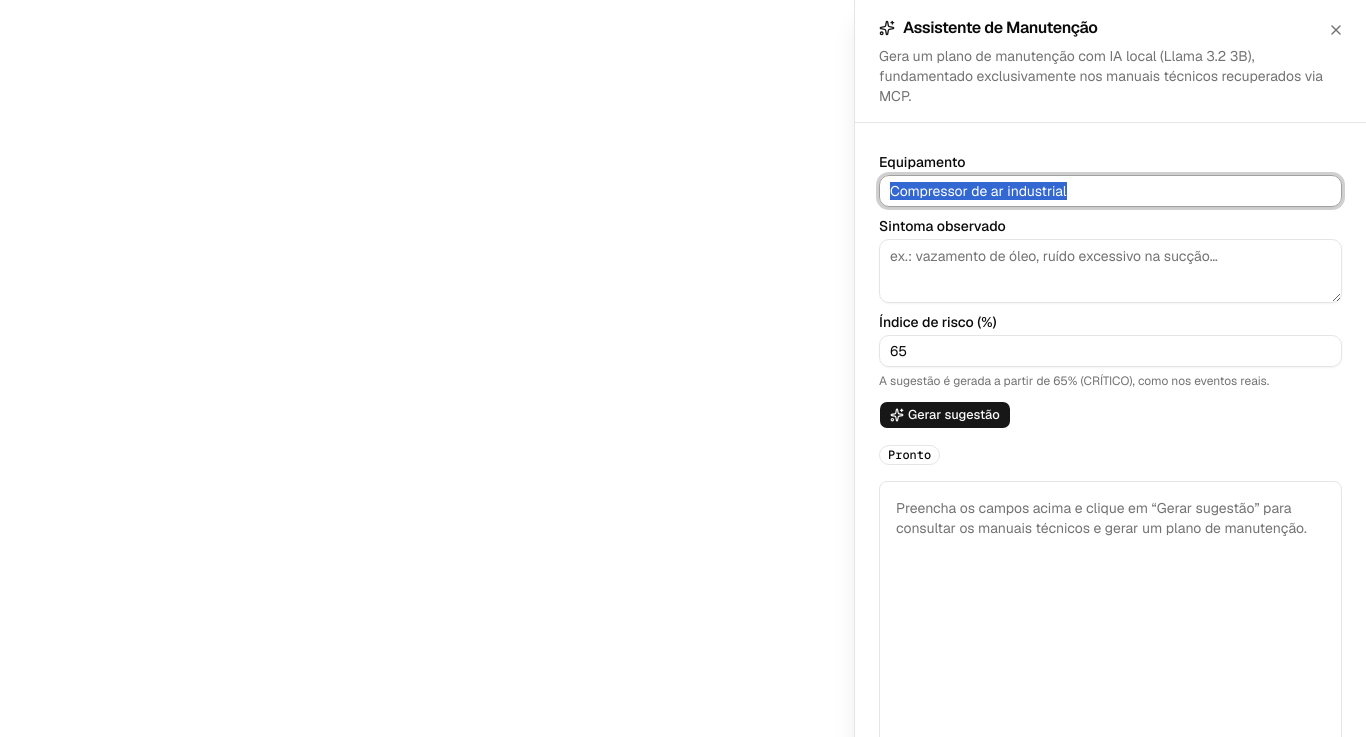
MaintenanceAssistant › D/E) exibe as referências como texto com nome de arquivo e página, sem criar link
Click the button "Gerar sugestão". click: (945,415)
box: [879,401,1011,429]
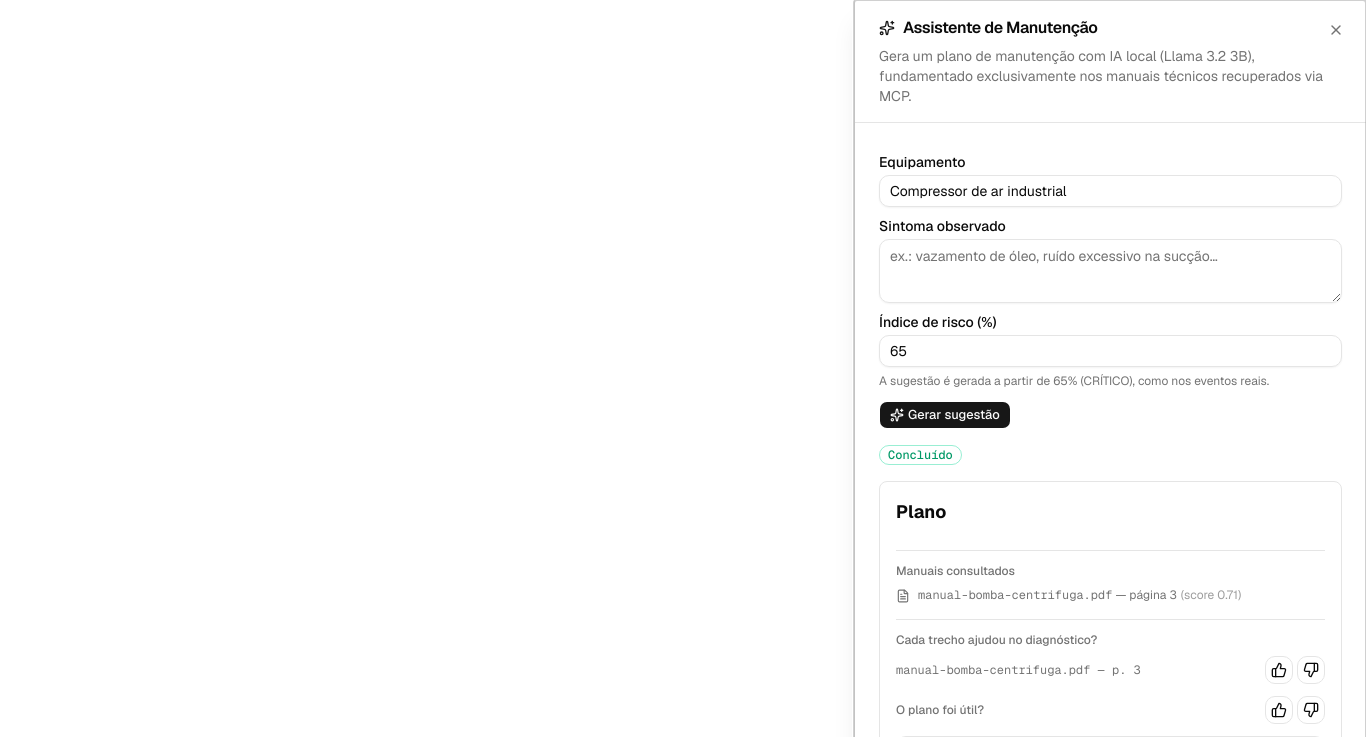
Check: the text "manual-bomba-centrifuga.pdf" is shown, box [918,587,1112,603]
Check: the text "manual-bomba-centrifuga.pdf — página 3(score 0.71)" is shown, box [918,587,1241,603]
